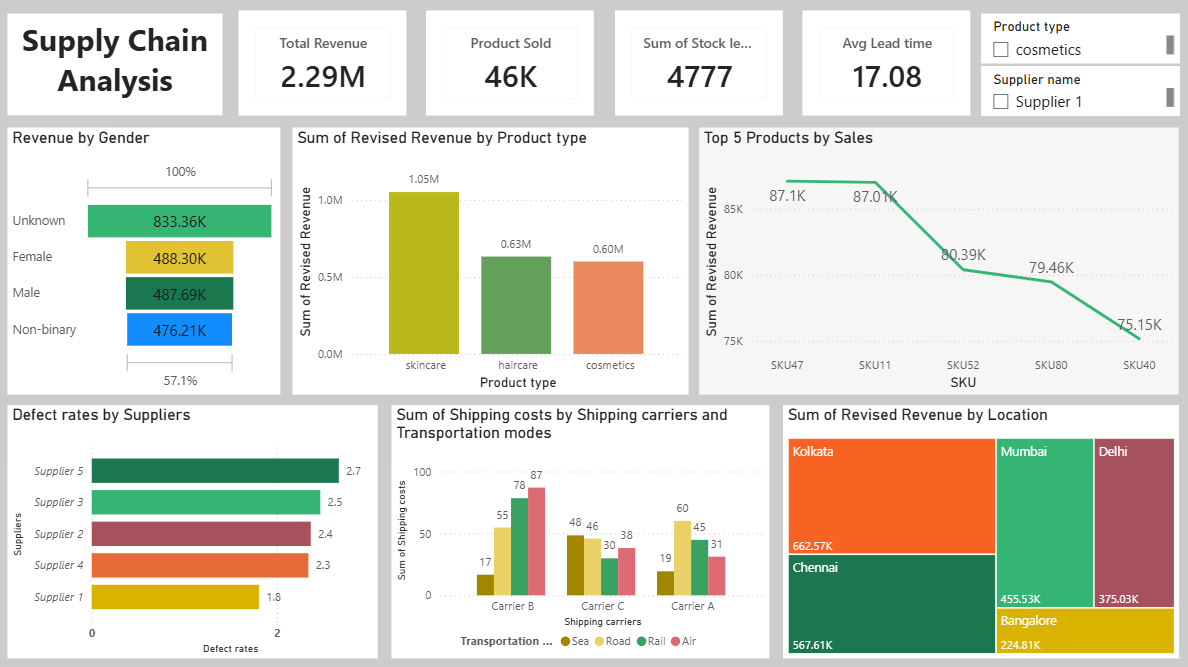

What the dashboard file says about the page in this screenshot:
{"tool":"powerbi","page":{"name":"Page 1","canvas":[1280,720],"ordinal":0},"visuals":[{"type":"columnChart","fields":{"Y":["Sum(Sheet1.Revised Revenue)"],"Category":["Sheet1.Product type"]},"box":[319.7,141.6,419.9,283.1],"z":0},{"type":"funnel","title":"Revenue by Gender ","fields":{"Y":["Sum(Sheet1.Revised Revenue)"],"Category":["Sheet1.Customer demographics"]},"box":[17.5,141.6,289.5,283.1],"z":1000},{"type":"lineChart","title":"Top 5 Products by Sales","fields":{"Category":["Sheet1.SKU"],"Y":["Sum(Sheet1.Revised Revenue)"]},"box":[750.8,141.6,509,283.1],"z":2000},{"type":"barChart","fields":{"Category":["Sheet1.Supplier name"],"Y":["Avg(Sheet1.Defect rates)"]},"box":[17.5,435.8,392.9,268.8],"z":3000},{"type":"clusteredColumnChart","fields":{"Category":["Sheet1.Shipping carriers"],"Y":["Sum(Sheet1.Shipping costs)"],"Series":["Sheet1.Transportation modes"]},"box":[424.7,435.8,400.8,268.8],"z":4000},{"type":"cardVisual","fields":{"Data":["Sum(Sheet1.Revised Revenue)"]},"box":[262.5,17.5,178.1,111.3],"z":5000},{"type":"cardVisual","fields":{"Data":["Sum(Sheet1.Stock levels)"]},"box":[661.7,17.5,178.1,111.3],"z":6000},{"type":"cardVisual","fields":{"Data":["Sum(Sheet1.Number of products sold)"]},"box":[461.3,17.5,178.1,111.3],"z":7000},{"type":"cardVisual","fields":{"Data":["Avg(Sheet1.Lead time)"]},"box":[860.5,17.5,178.1,111.3],"z":8000},{"type":"treemap","fields":{"Group":["Sheet1.Location"],"Values":["Sum(Sheet1.Revised Revenue)"]},"box":[839.8,435.8,419.9,268.8],"z":9000},{"type":"slicer","fields":{"Values":["Sheet1.Product type"]},"box":[1049.8,20.7,210,52.5],"z":10000},{"type":"slicer","fields":{"Values":["Sheet1.Supplier name"]},"box":[1049.8,76.3,210,52.5],"z":11000},{"type":"textbox","box":[18,20,228,108],"z":12000}]}

Visuals, with their boxes in screenshot pixels (x1, y1, x2, y2), scaled from the page's 1280x720 canvas onto the 1188x667 screenshot:
columnChart - Sum(Sheet1.Revised Revenue) x Sheet1.Product type: (left=297, top=131, right=686, bottom=393)
"Revenue by Gender " funnel: (left=16, top=131, right=285, bottom=393)
"Top 5 Products by Sales" lineChart: (left=697, top=131, right=1169, bottom=393)
barChart - Sheet1.Supplier name x Avg(Sheet1.Defect rates): (left=16, top=404, right=381, bottom=653)
clusteredColumnChart - Sheet1.Shipping carriers x Sum(Sheet1.Shipping costs): (left=394, top=404, right=766, bottom=653)
cardVisual - Sum(Sheet1.Revised Revenue): (left=244, top=16, right=409, bottom=119)
cardVisual - Sum(Sheet1.Stock levels): (left=614, top=16, right=779, bottom=119)
cardVisual - Sum(Sheet1.Number of products sold): (left=428, top=16, right=593, bottom=119)
cardVisual - Avg(Sheet1.Lead time): (left=799, top=16, right=964, bottom=119)
treemap - Sheet1.Location x Sum(Sheet1.Revised Revenue): (left=779, top=404, right=1169, bottom=653)
slicer - Sheet1.Product type: (left=974, top=19, right=1169, bottom=68)
slicer - Sheet1.Supplier name: (left=974, top=71, right=1169, bottom=119)
textbox: (left=17, top=19, right=228, bottom=119)
